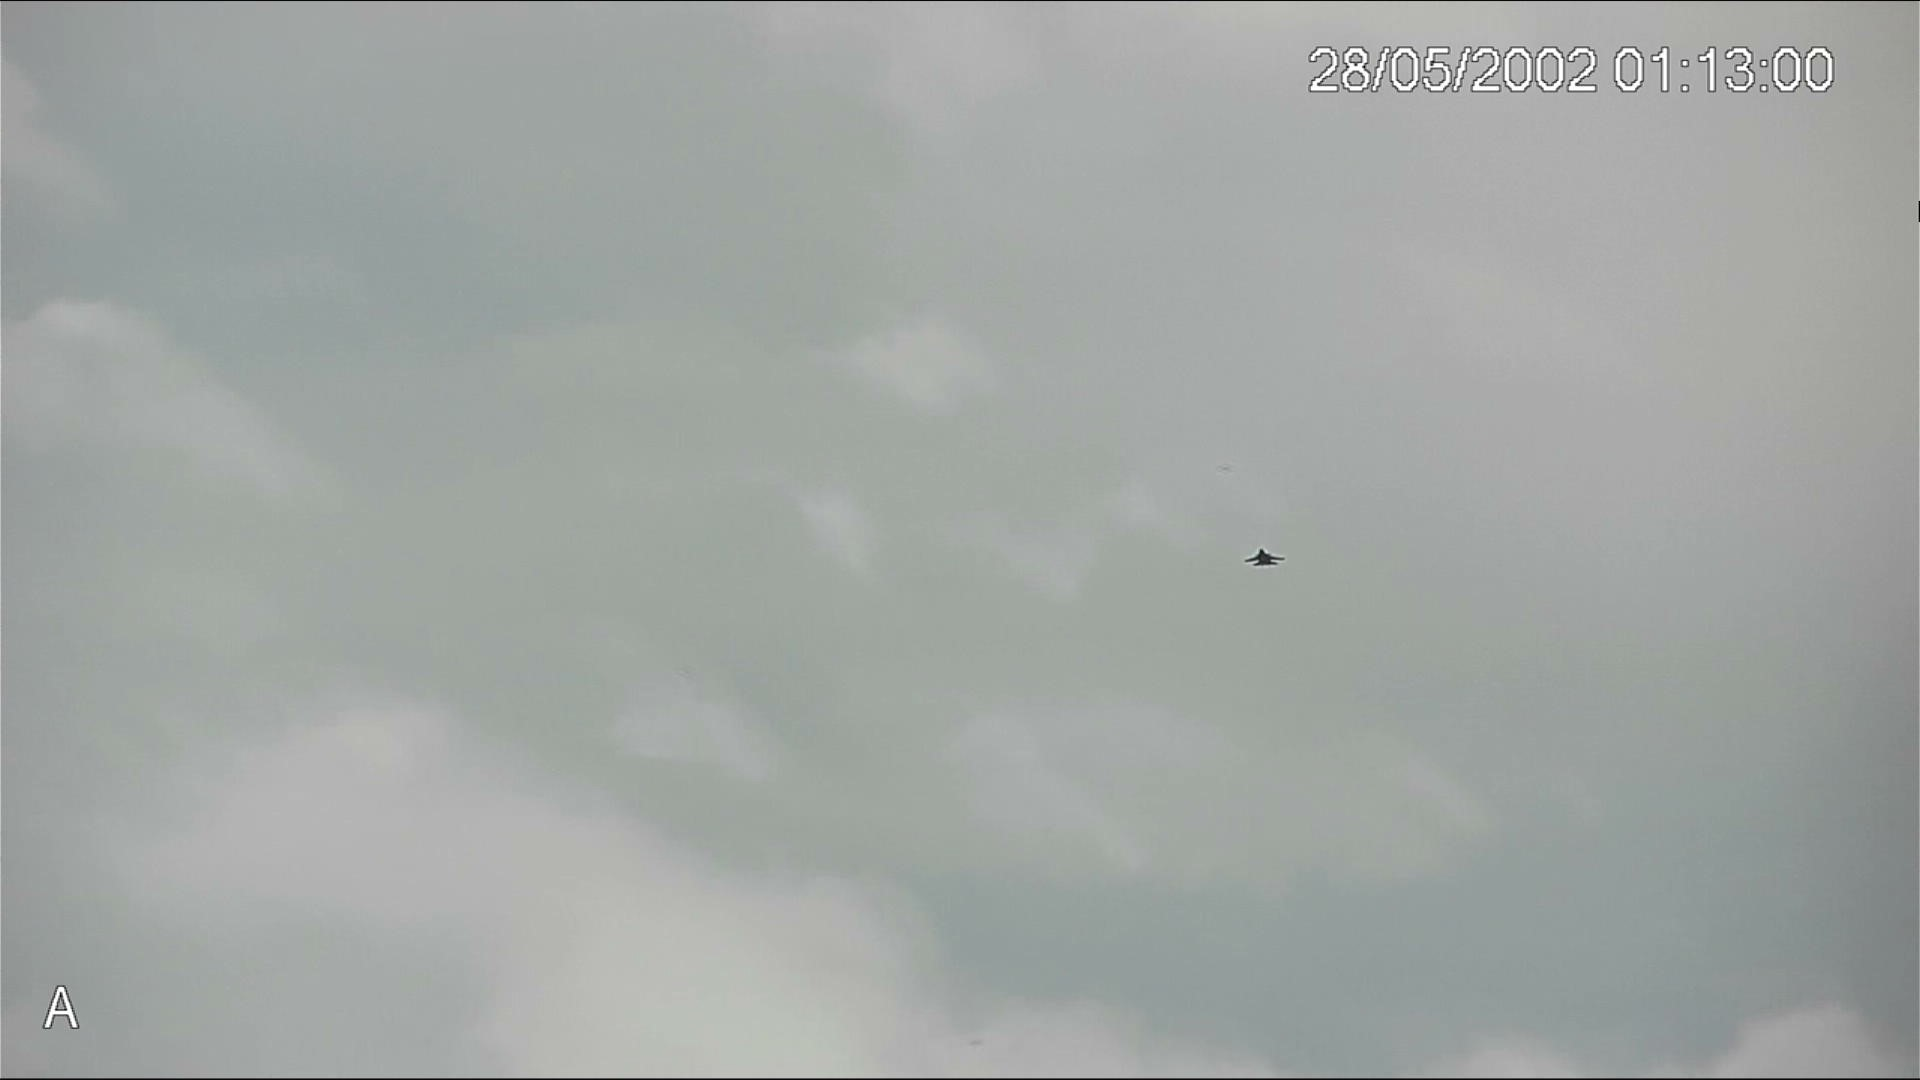SU_30: (1242, 549, 1287, 568)
